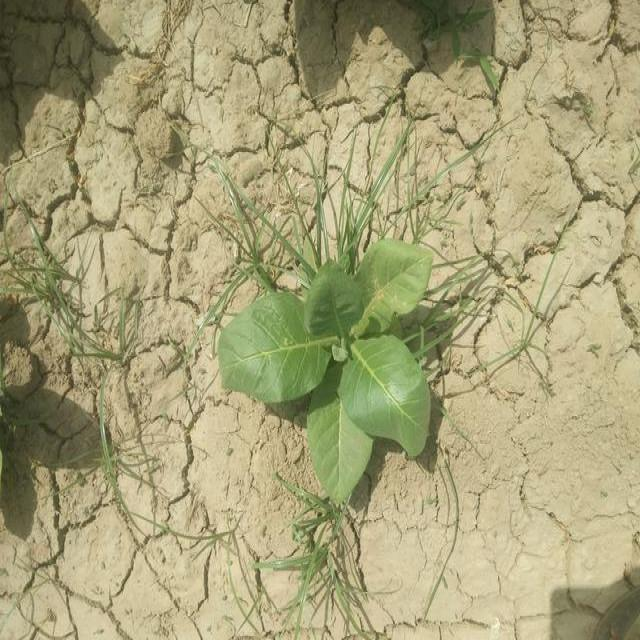crop: (211, 251, 434, 498)
